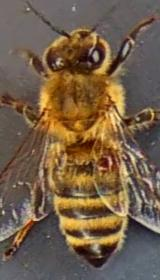varroa_mite: (89, 144, 125, 174)
